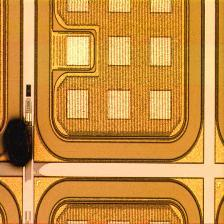PARTICLE: (1, 114, 47, 170)
